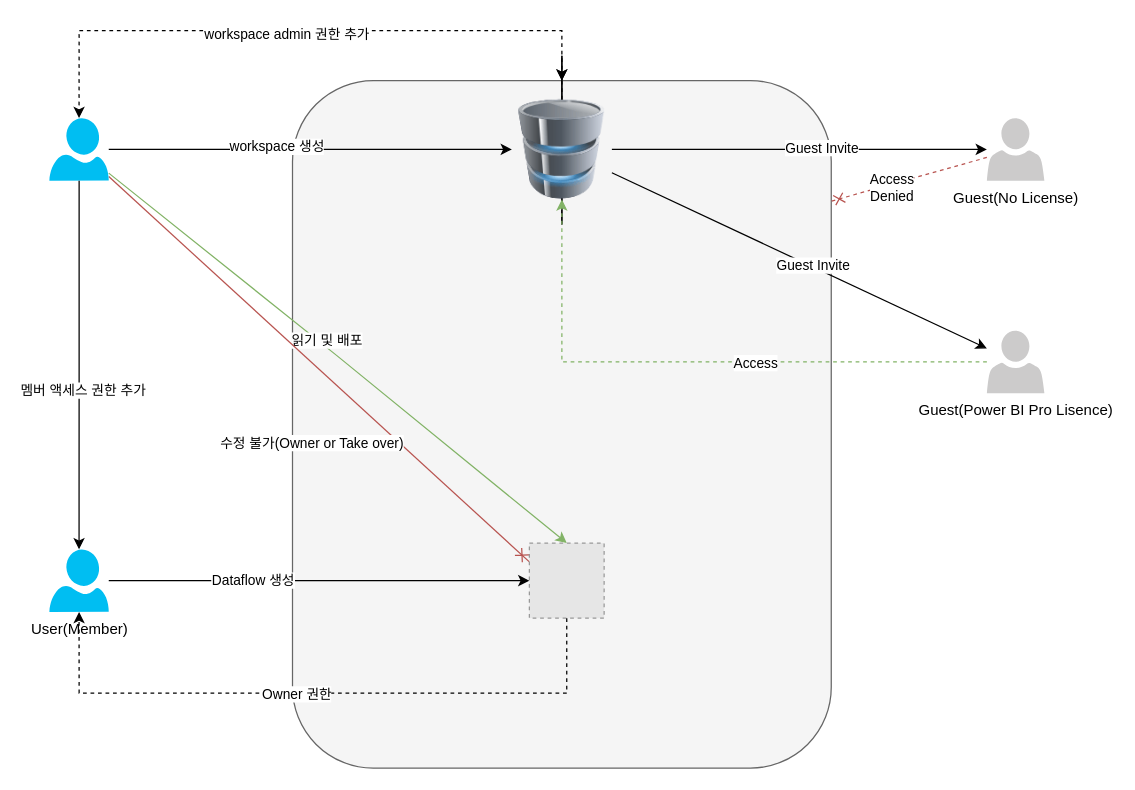
Image size: 1135x790. Some labels were removed from this diagram. Grey dashed boxes stand in for pictures. The shapes that lost their labels are listed below. From the top down, each one's box as (x1, y1, x2, y2) in pixels, then its label:
(49, 118, 108, 180): User(Admin)
(511, 99, 611, 199): Workspace
